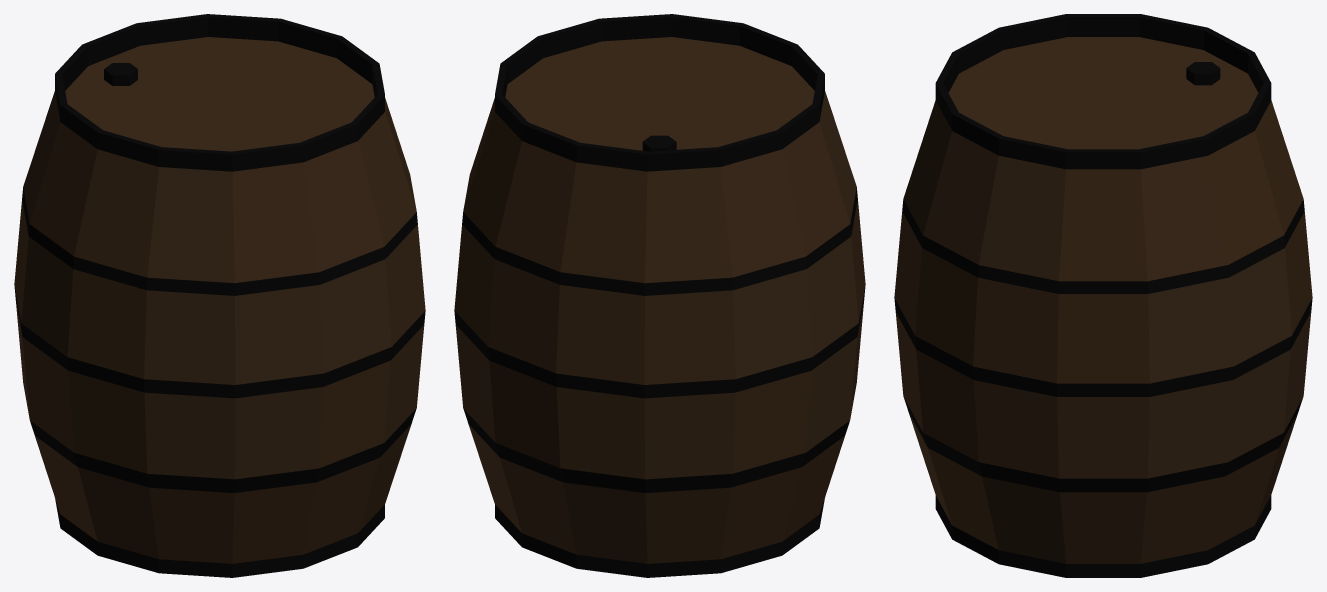
The model's file is Barrel_001.fbx.
The picture shows the model from 3 angles, left to right: view 1: azimuth 30°, elevation 25°; view 2: azimuth 150°, elevation 25°; view 3: azimuth 270°, elevation 25°; orthographic projection.
Parts seen in each view (by area): view 1: barrel_001; view 2: barrel_001; view 3: barrel_001.
Boxes of the visible parts, bbox=[...] form: barrel_001: bbox=[14, 14, 425, 577]; barrel_001: bbox=[454, 14, 865, 577]; barrel_001: bbox=[894, 14, 1312, 577].
Size of the model in its own units: 95.43 by 110 by 97.88.
